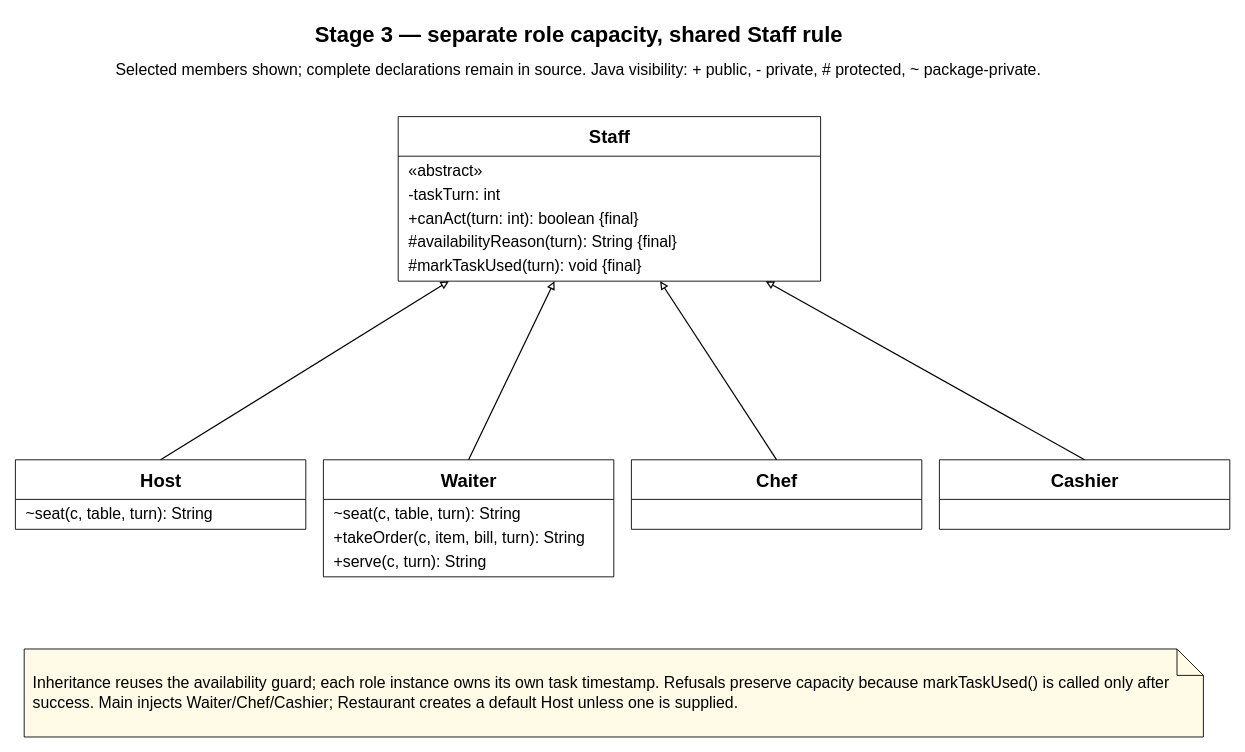
Image size: 1245x752. Some labels were removed from this diagram. Here are the shapes that lost their labels. From the top down, the centre of each, then its label:
(776,513): +prepare(order, turn): String
(1084,513): ~collect(c, turn): String
